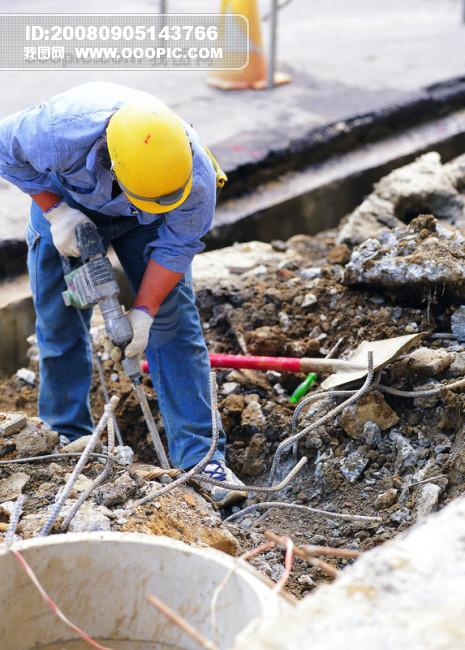helmet: (107, 101, 191, 209)
